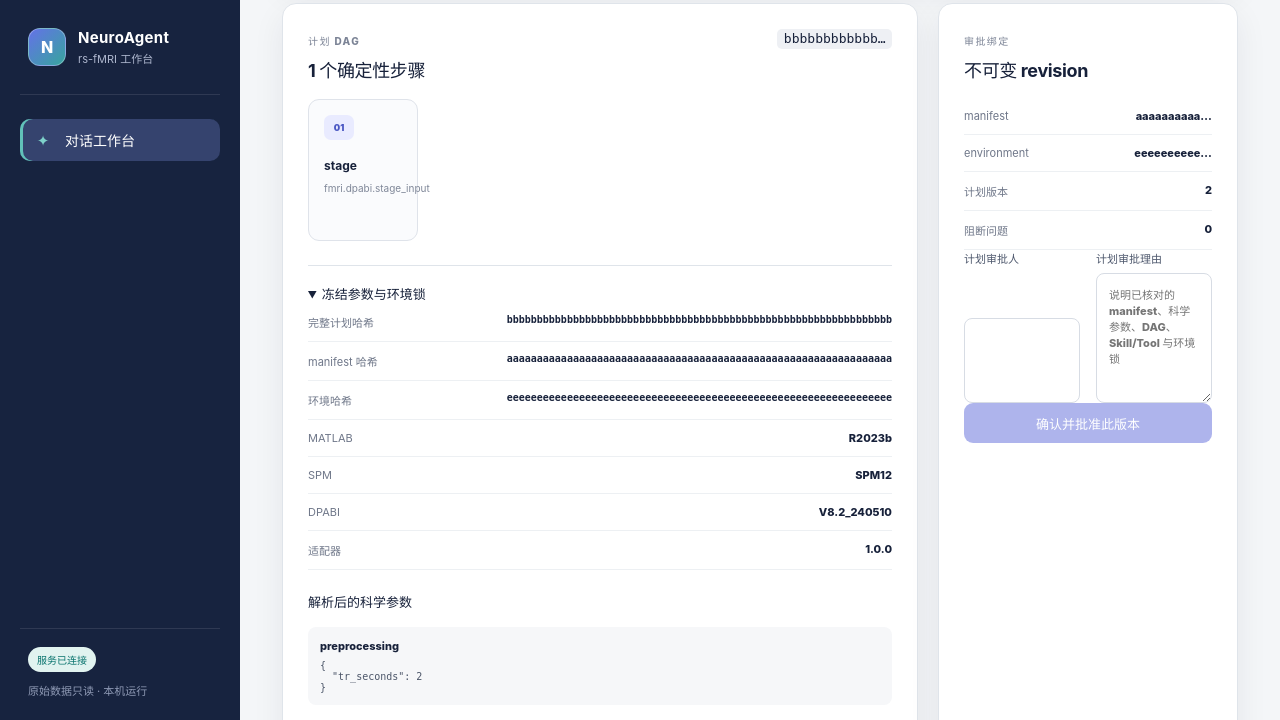
Scenario: App › loads an immutable plan and sends the full approval binding
(page scrolled)
Check: the button "确认并批准此版本" is disabled, box [964,403,1212,443]
Check: the text "R2023b" is shown, box [849,431,892,445]
Type "reviewer-a" into the field labelled "计划审批人" at (1022, 360), box [964,318,1080,403]
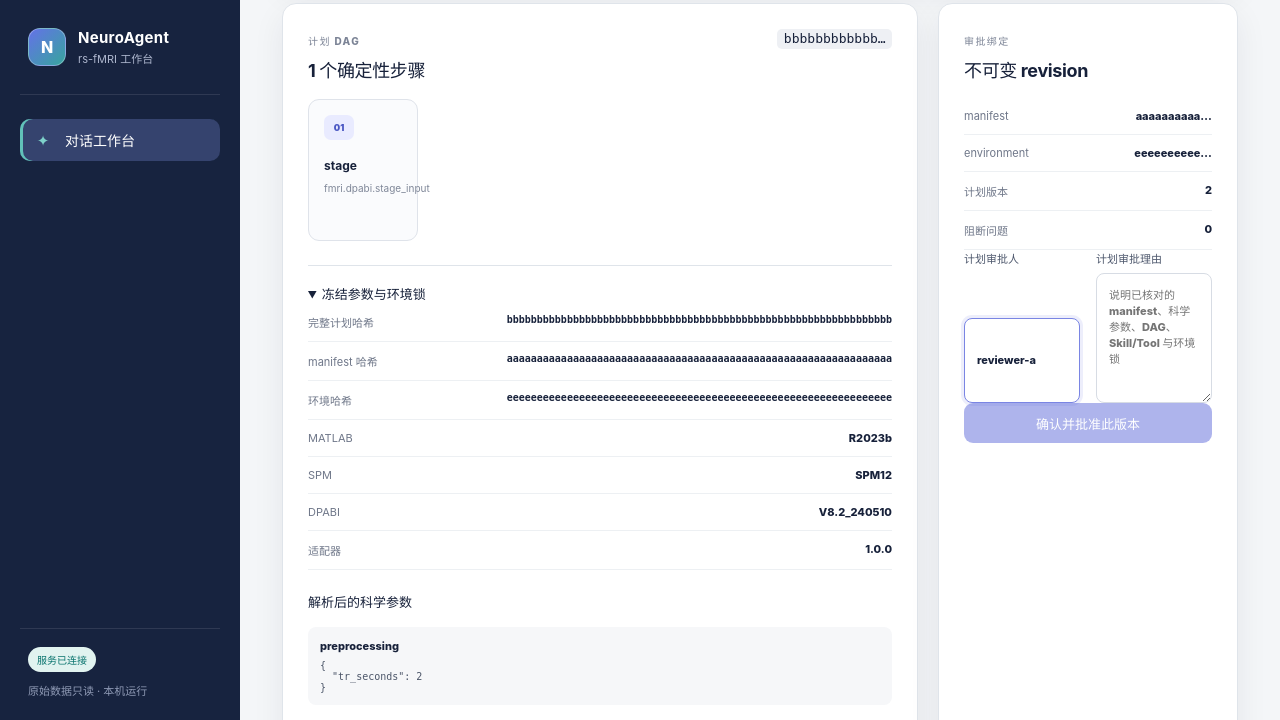
Type "reviewed evidence" into the text box labelled "计划审批理由" at (1154, 338), box [1096,273,1212,403]
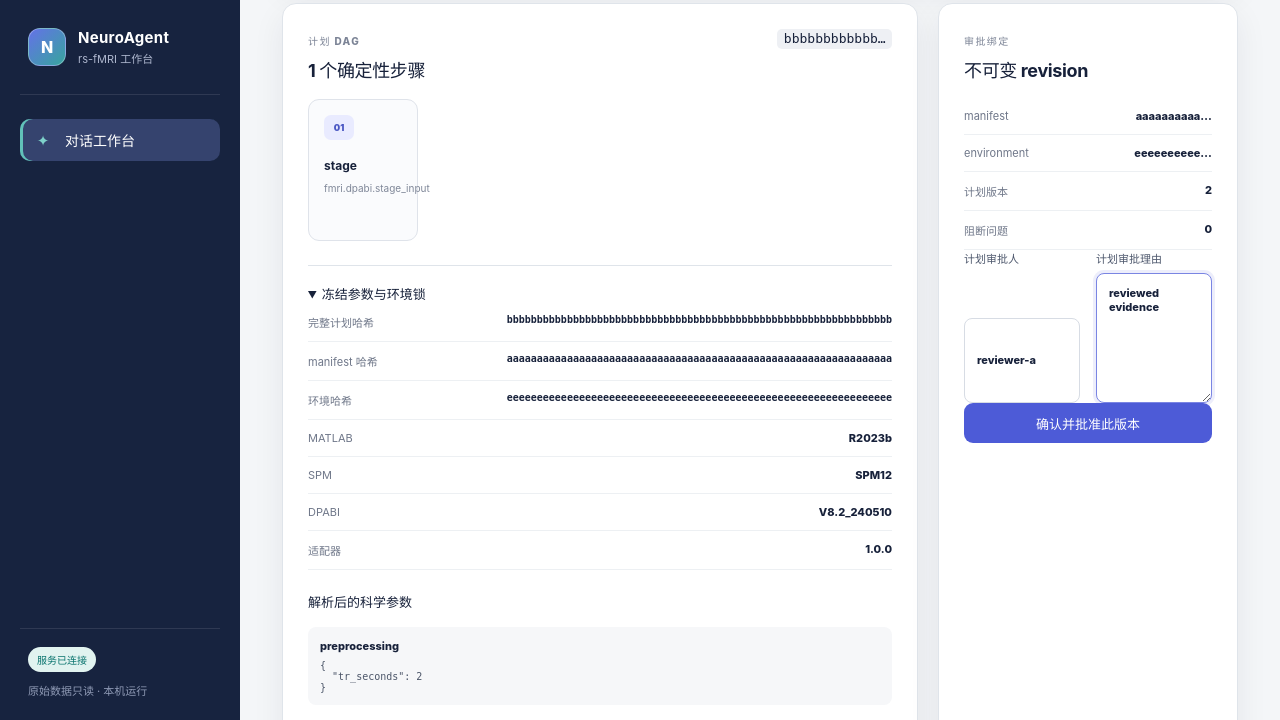
Click the button "确认并批准此版本" at (1088, 423), box [964,403,1212,443]
(page scrolled)
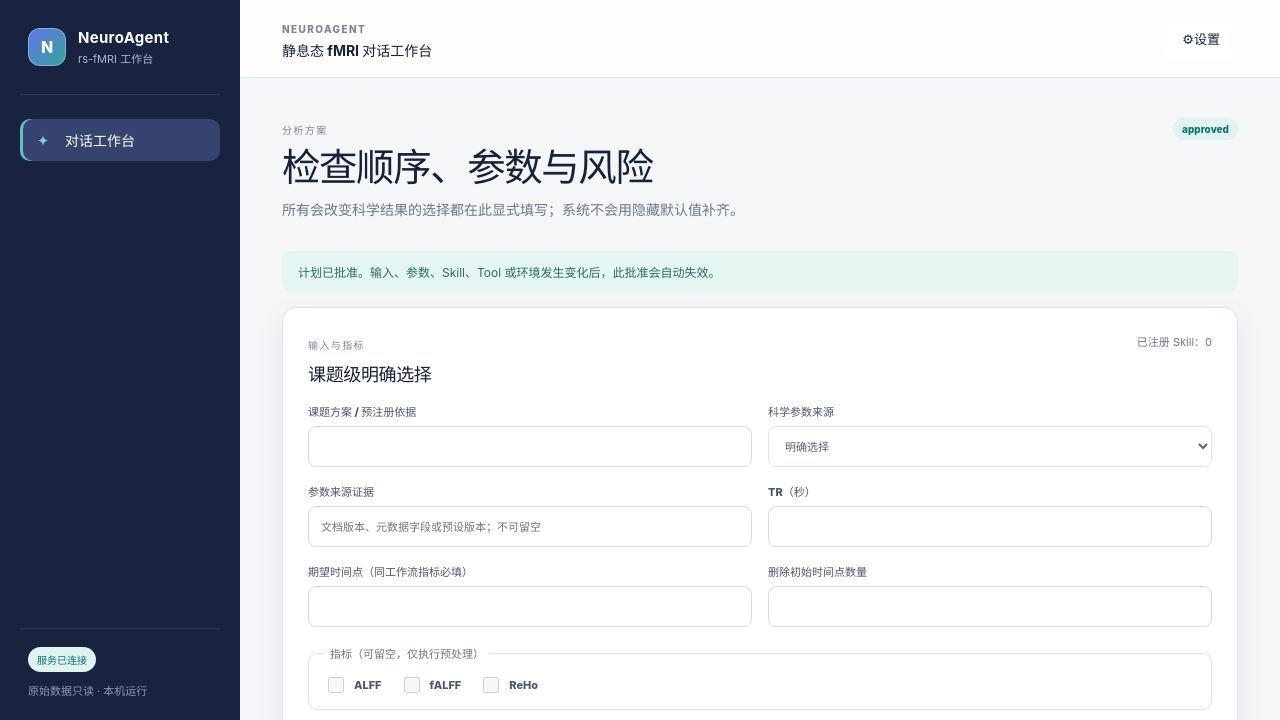
Check: the message shows "计划已批准", box [298,265,720,280]
